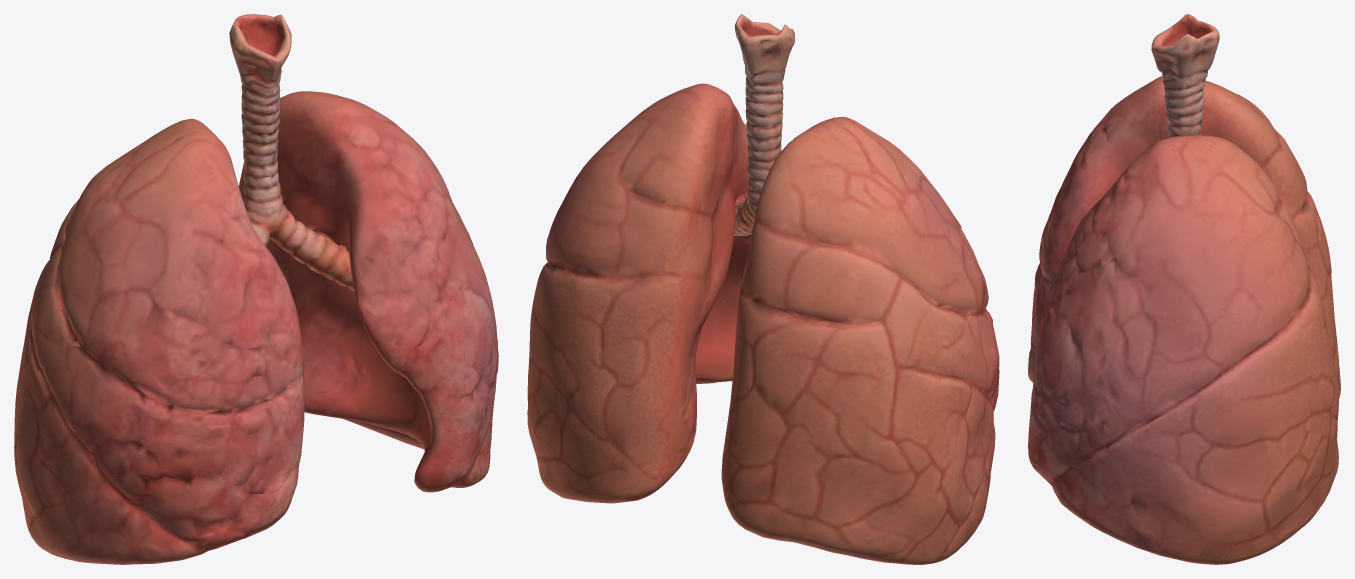
Rendered from lungs-lod1.glb.
3 views of the same model, side by side, from view 1: azimuth 30°, elevation 25°; view 2: azimuth 150°, elevation 25°; view 3: azimuth 270°, elevation 25° (orthographic). The views are drawn at different scales.
Parts seen in each view (by area): view 1: tripo_node_a2c7b654-b225-4f4d-9d04-c8d7d752252c; view 2: tripo_node_a2c7b654-b225-4f4d-9d04-c8d7d752252c; view 3: tripo_node_a2c7b654-b225-4f4d-9d04-c8d7d752252c.
Boxes of the visible parts, bbox=[...] form: tripo_node_a2c7b654-b225-4f4d-9d04-c8d7d752252c: bbox=[14, 14, 498, 564]; tripo_node_a2c7b654-b225-4f4d-9d04-c8d7d752252c: bbox=[527, 14, 999, 564]; tripo_node_a2c7b654-b225-4f4d-9d04-c8d7d752252c: bbox=[1028, 14, 1340, 564].
Size of the model in its own units: 0.9018 by 0.9792 by 0.6129.
Materials: 1 (1 with a texture image).
